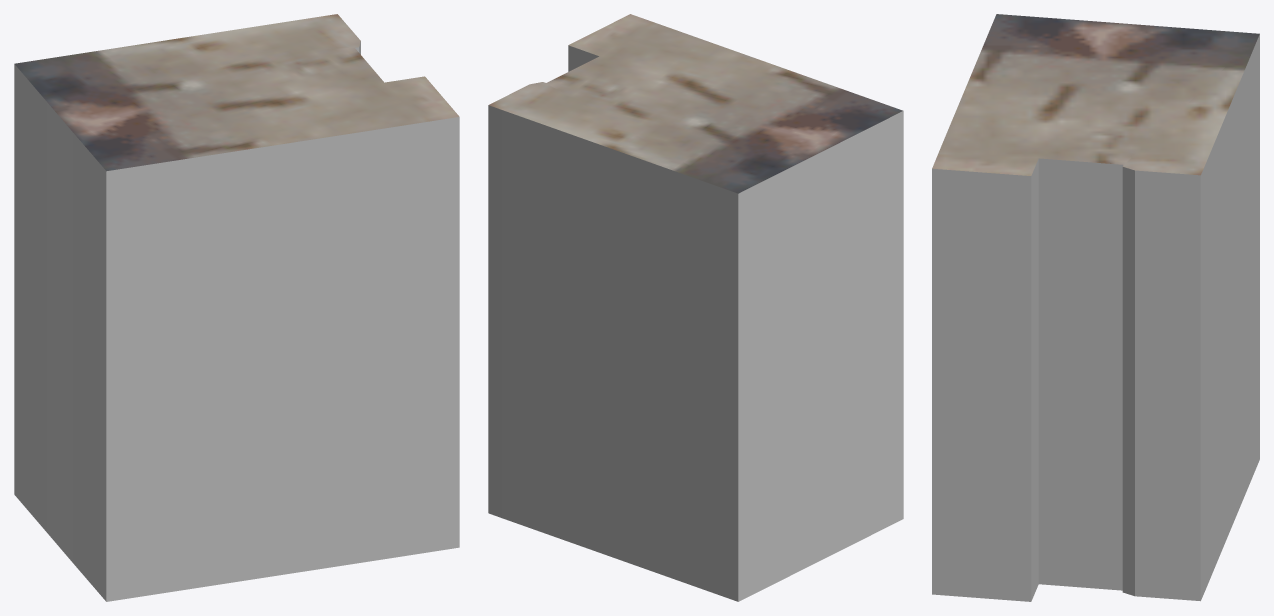
File: DEBW_0010007TxaU.gltf
3 views of the same model, side by side, from view 1: azimuth 30°, elevation 25°; view 2: azimuth 150°, elevation 25°; view 3: azimuth 270°, elevation 25° (orthographic). The views are drawn at different scales.
Parts seen in each view (by area): view 1: Z_UP; view 2: Z_UP; view 3: Z_UP.
Boxes of the visible parts, <box> form: Z_UP: <box>14,14,459,601</box>; Z_UP: <box>488,14,903,601</box>; Z_UP: <box>932,14,1259,601</box>.
Size of the model in its own units: 14.35 by 17.57 by 12.26.
Materials: 2 (1 with a texture image).
